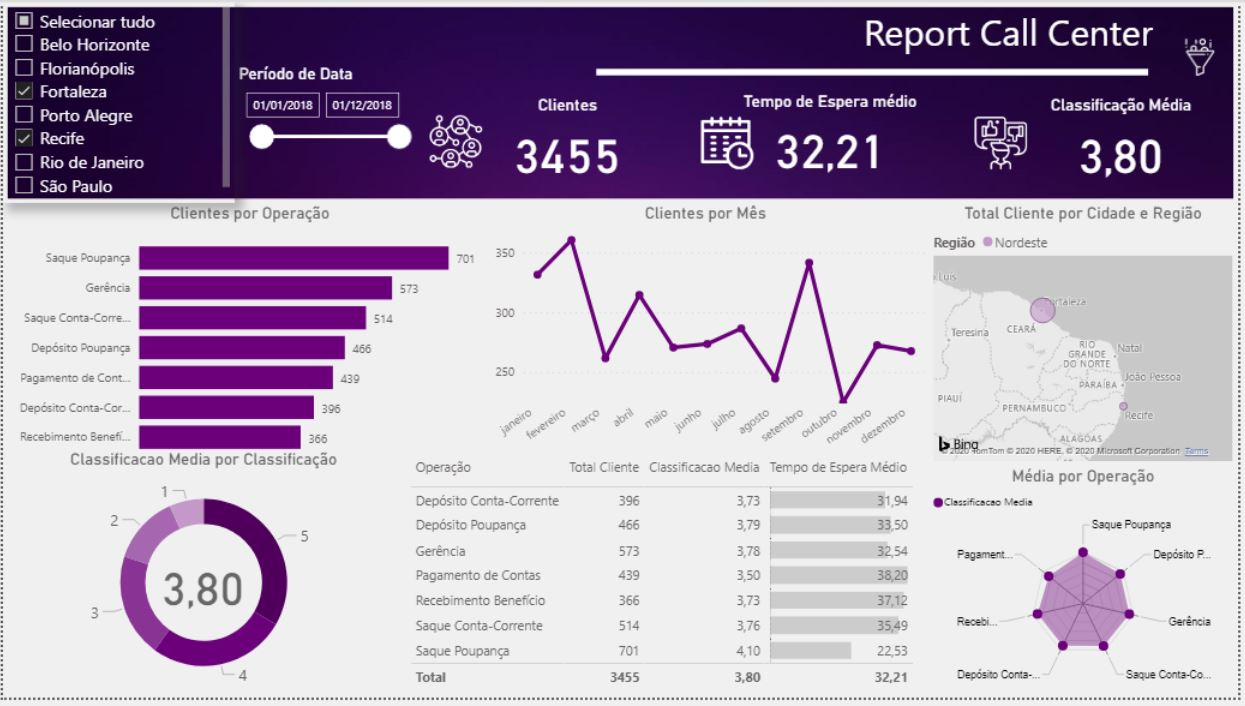

The dashboard page shown, as its layout file describes it:
{"tool":"powerbi","page":{"name":"Página 1","canvas":[1280,720],"ordinal":0},"visuals":[{"type":"image","box":[0,0,1280,208],"z":0},{"type":"card","title":"Clientes","fields":{"Values":["Cliente.Total Cliente"]},"box":[456.5,96,256,96],"z":1000},{"type":"card","title":"Tempo de Espera médio","fields":{"Values":["Avg(Cliente.Tempo de Espera)"]},"box":[729.7,91.1,256,96],"z":2000},{"type":"card","title":"Classificação Média","fields":{"Values":["Pesquisa.Classificacao Media"]},"box":[1039.3,97,240,96],"z":3000},{"type":"image","box":[978.3,113,112,64],"z":4000},{"type":"image","box":[710,113,80,64],"z":5000},{"type":"image","box":[420.7,112,96,64],"z":6000},{"type":"barChart","title":"Clientes por Operação","fields":{"Category":["Cliente.Operação"],"Y":["Cliente.Total Cliente"]},"box":[0,208,512,272],"z":7000},{"type":"lineChart","title":"Clientes por Mês","fields":{"Category":["Cliente.Data.Variation.Hierarquia de datas.Mês"],"Y":["Cliente.Total Cliente"]},"box":[496,208,464,272],"z":8000},{"type":"donutChart","fields":{"Category":["Pesquisa.Classificação"],"Y":["Pesquisa.Classificacao Media"]},"box":[0,464,416,256],"z":9000},{"type":"card","fields":{"Values":["Pesquisa.Classificacao Media"]},"box":[151.1,570.4,112.9,63.5],"z":10000},{"type":"tableEx","fields":{"Values":["Cliente.Operação","Cliente.Total Cliente","Pesquisa.Classificacao Media","Avg(Cliente.Tempo de Espera)"]},"box":[416,464,544,256],"z":11000},{"type":"map","fields":{"Category":["Cliente.Cidade"],"Size":["Cliente.Total Cliente"],"Series":["Cliente.Região"]},"box":[960,208,320,272],"z":12000},{"type":"RadarChart1446119667547","title":"Média por Operação","fields":{"Category":["Cliente.Operação"],"Y":["Pesquisa.Classificacao Media"]},"box":[960,480,320,240],"z":13000},{"type":"textbox","box":[605,0,592,64],"z":14000},{"type":"basicShape","box":[605,48,592,48],"z":15000},{"type":"slicer","title":"Período de Data","fields":{"Values":["Cliente.Data"]},"box":[240,64,192,96],"z":16000},{"type":"slicer","fields":{"Values":["Cliente.Cidade"]},"box":[0,0,240,208],"z":17000},{"type":"image","box":[1200,32,80,48],"z":18000}]}

Visuals, with their boxes in screenshot pixels (x1, y1, x2, y2), scaled from the page's 1280x720 canvas onto the 1245x706 screenshot:
image: (0,0,1244,204)
"Clientes" card: (444,94,693,188)
"Tempo de Espera médio" card: (710,89,959,183)
"Classificação Média" card: (1011,95,1244,189)
image: (952,111,1060,174)
image: (691,111,768,174)
image: (409,110,503,173)
"Clientes por Operação" barChart: (0,204,498,471)
"Clientes por Mês" lineChart: (482,204,934,471)
donutChart - Pesquisa.Classificação x Pesquisa.Classificacao Media: (0,455,405,705)
card - Pesquisa.Classificacao Media: (147,559,257,622)
tableEx - Cliente.Operação x Cliente.Total Cliente: (405,455,934,705)
map - Cliente.Cidade x Cliente.Total Cliente: (934,204,1244,471)
"Média por Operação" RadarChart1446119667547: (934,471,1244,705)
textbox: (588,0,1164,63)
basicShape: (588,47,1164,94)
"Período de Data" slicer: (233,63,420,157)
slicer - Cliente.Cidade: (0,0,233,204)
image: (1167,31,1244,78)
